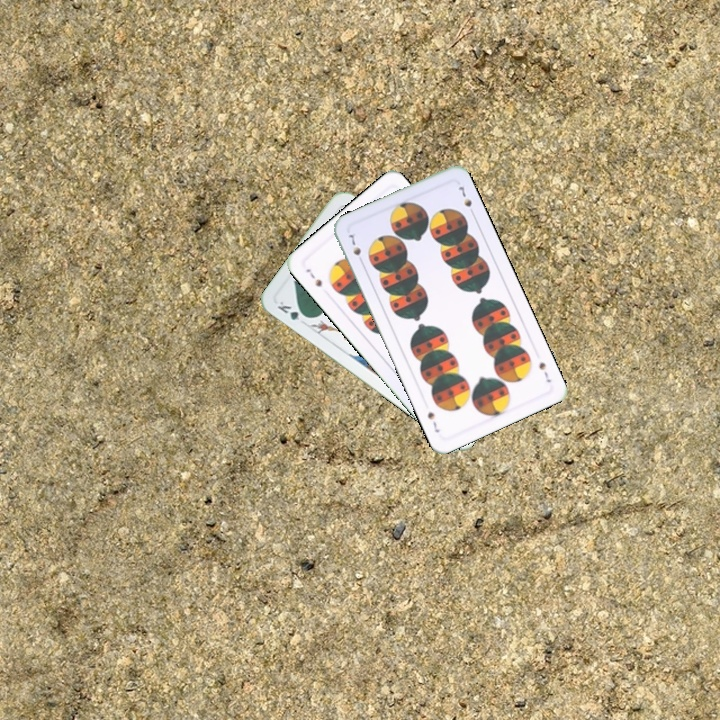GK: (273, 297, 311, 323)
S7: (345, 228, 366, 267), (302, 264, 324, 289), (535, 358, 554, 385)
